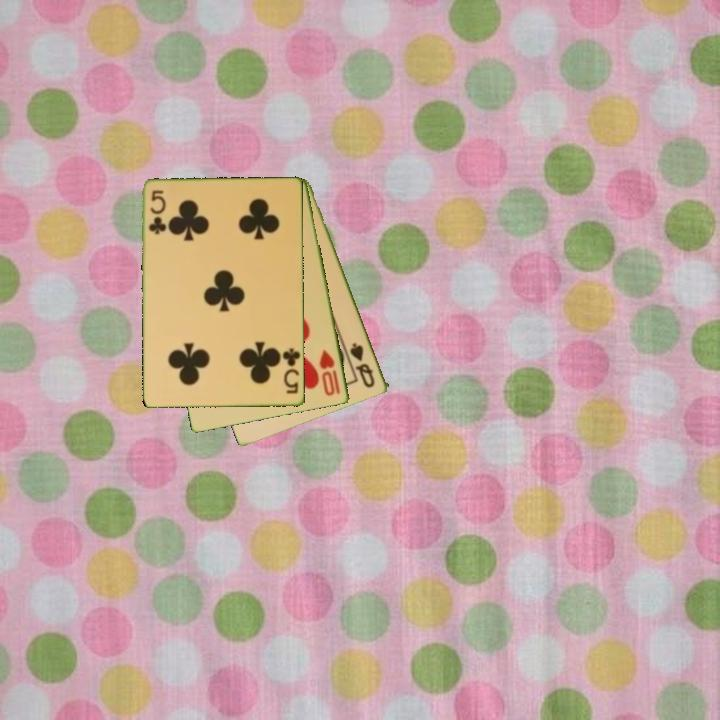10h: (316, 347, 343, 399)
5c: (279, 345, 303, 396), (145, 187, 168, 237)
Qs: (347, 339, 378, 391)
